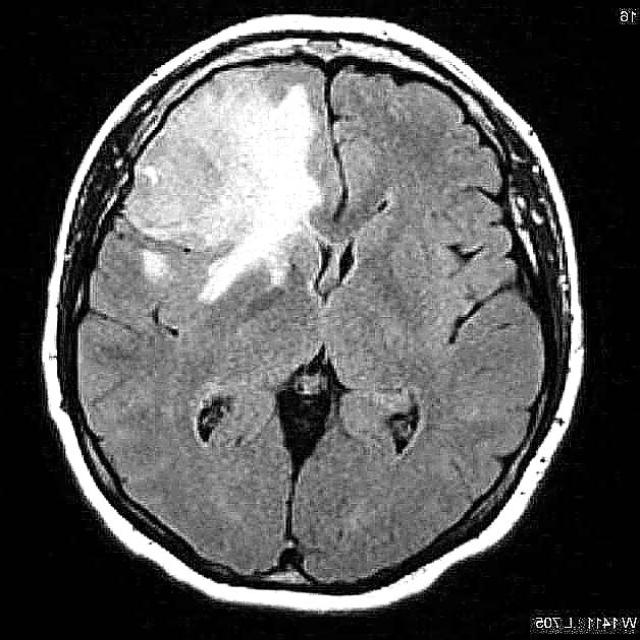Tumor-Cell: (123, 84, 319, 271)
